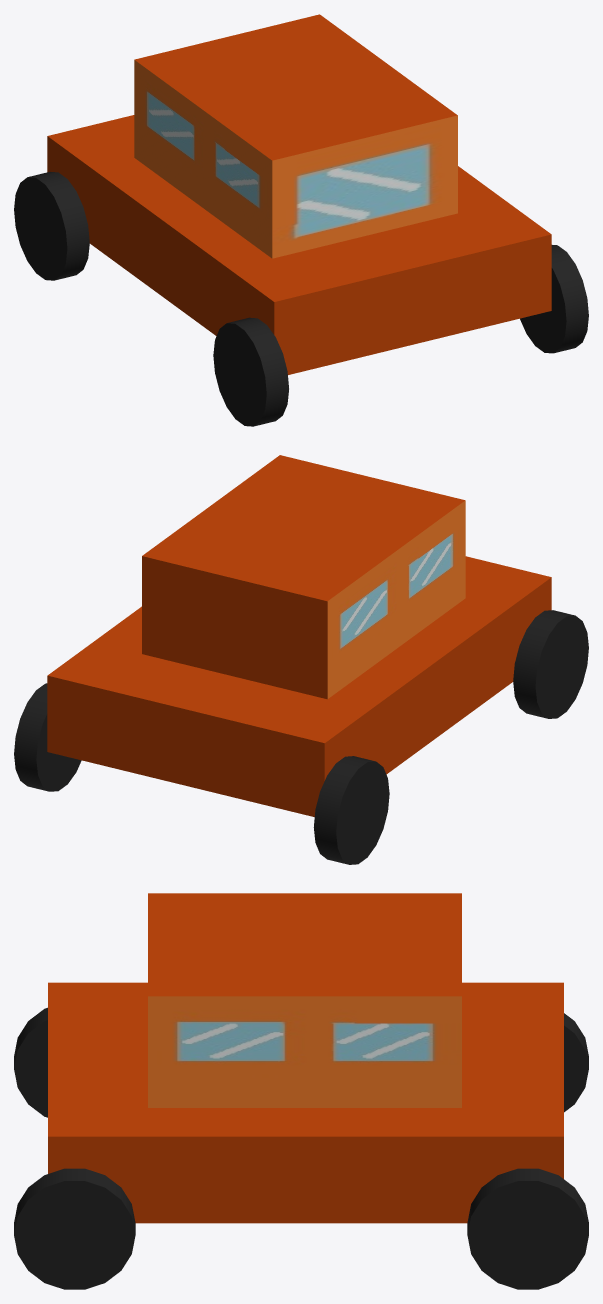
The model's file is car_orange.FBX.
The picture shows the model from 3 angles, top to bottom: view 1: azimuth 30°, elevation 25°; view 2: azimuth 150°, elevation 25°; view 3: azimuth 270°, elevation 25°; orthographic projection. The views are drawn at different scales.
Visible parts, largest first — view 1: Cylinder004; view 2: Cylinder004; view 3: Cylinder004.
Boxes of the visible parts, bbox=[...] form: Cylinder004: bbox=[14, 14, 588, 426]; Cylinder004: bbox=[14, 455, 588, 864]; Cylinder004: bbox=[14, 893, 588, 1289].
Bounding box in the file's own units: 697 × 460 × 947.
3 materials, 1 textured.
